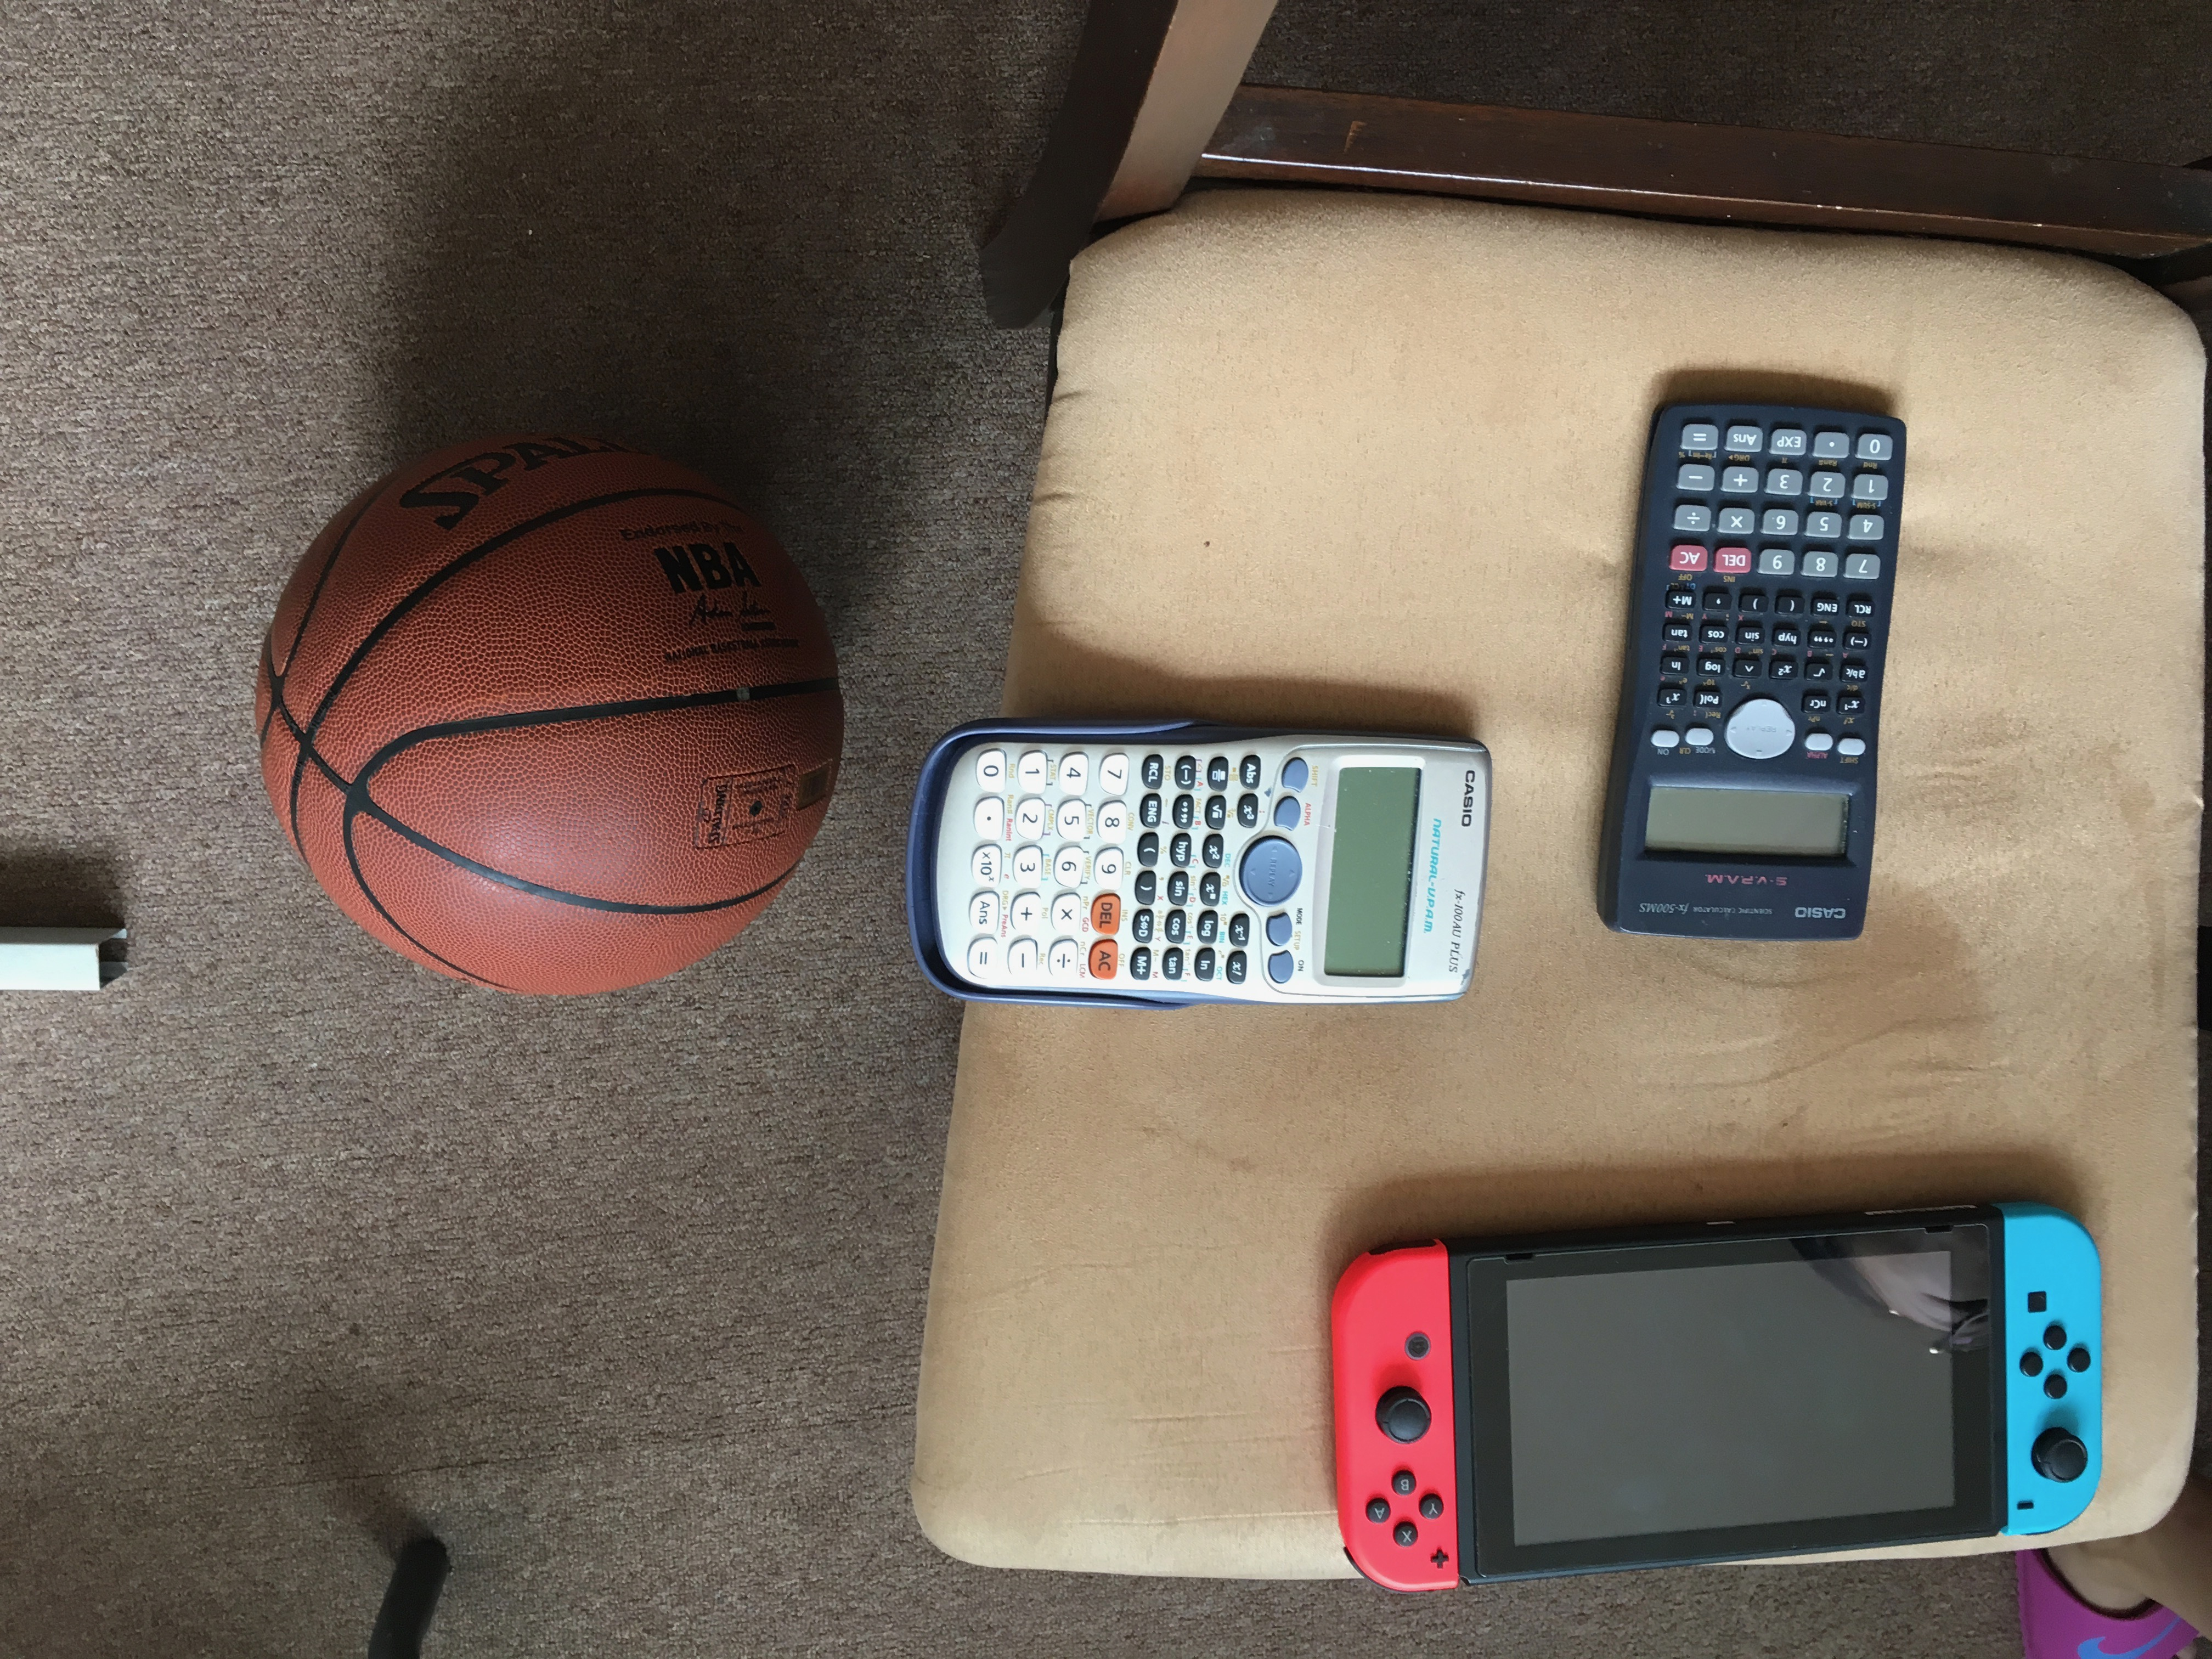Basketball: (235, 430, 848, 1021)
Calculator: (1580, 378, 1914, 951), (895, 709, 1500, 1014)
NintendoSwitch: (1322, 1197, 2107, 1595)
